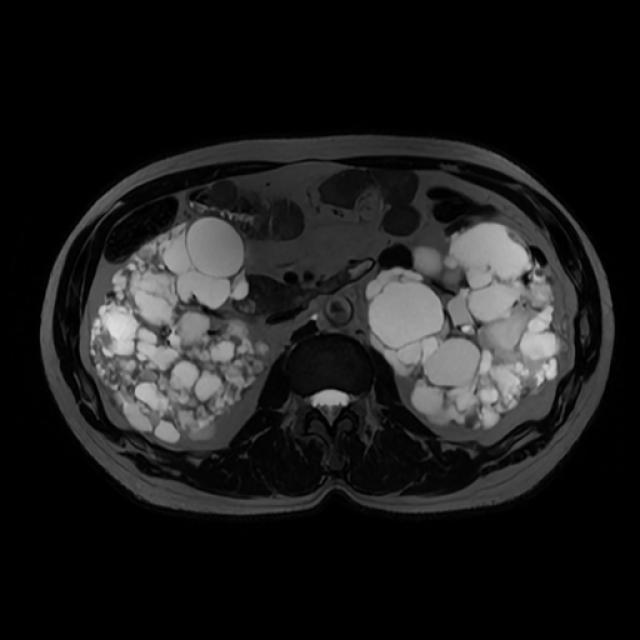sag: (88, 216, 272, 443)
sol: (364, 222, 571, 431)
